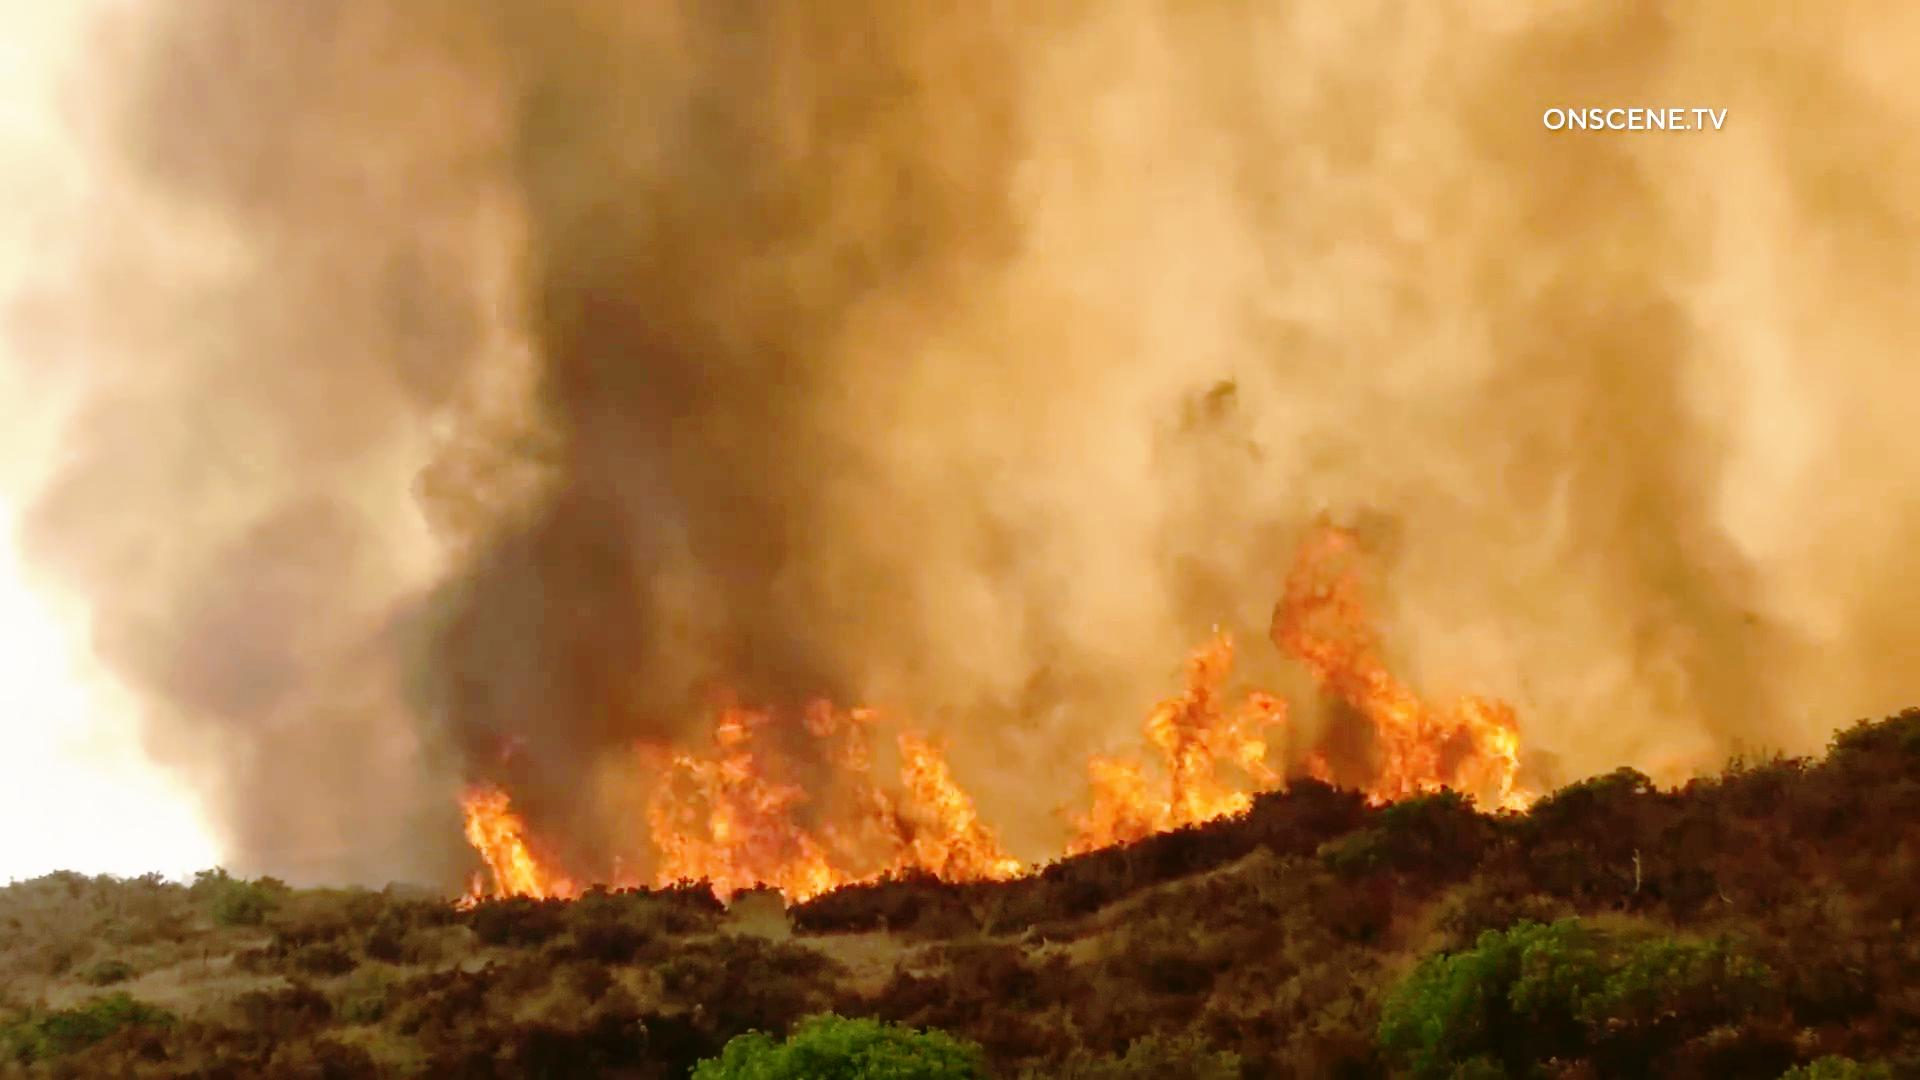fire: (1246, 513, 1524, 808), (1055, 633, 1279, 843), (621, 703, 843, 910), (841, 698, 1051, 885), (446, 775, 563, 924)
smoke: (323, 142, 901, 673)
